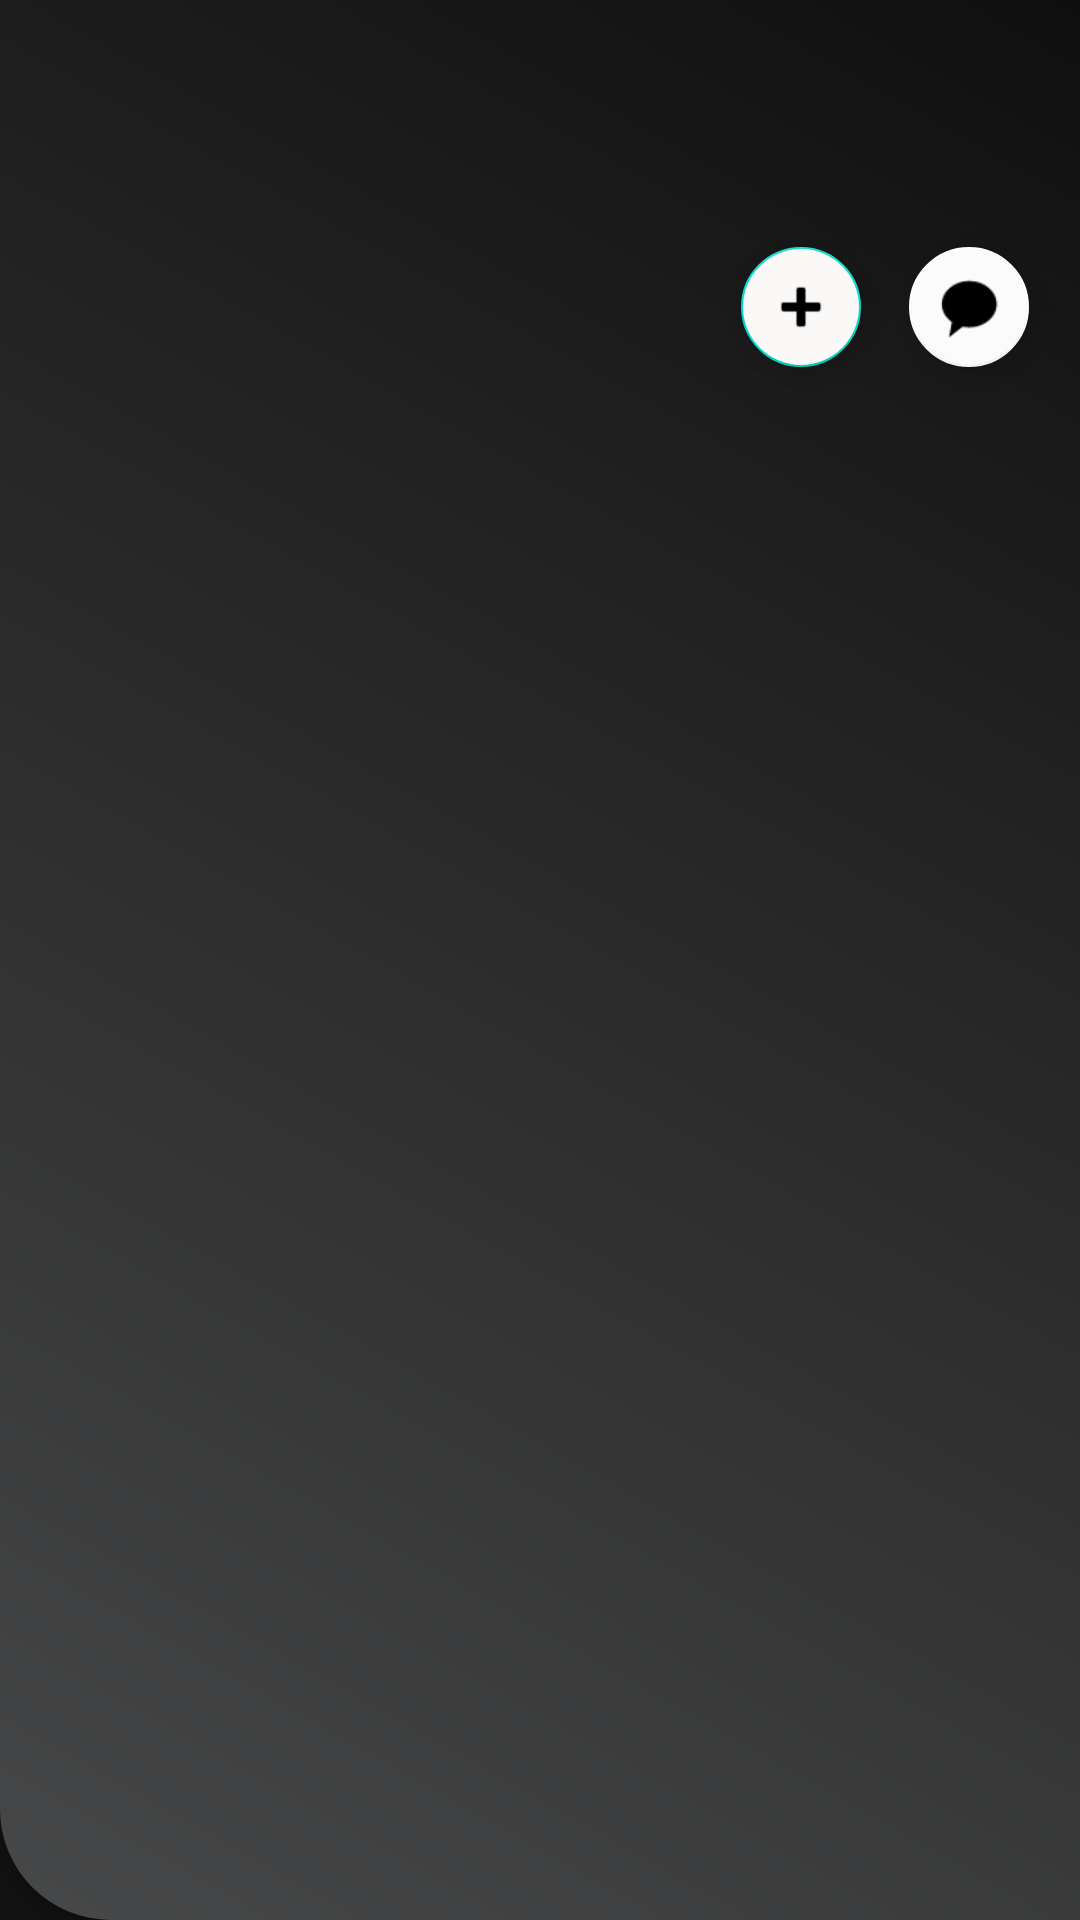

Named icons in this screenshot (1080 x 1920) and their bounding boxes, bbox=(x1, y1, x2, y2):
add: bbox=(741, 247, 861, 367)
sym action chat: bbox=(909, 247, 1029, 367)
